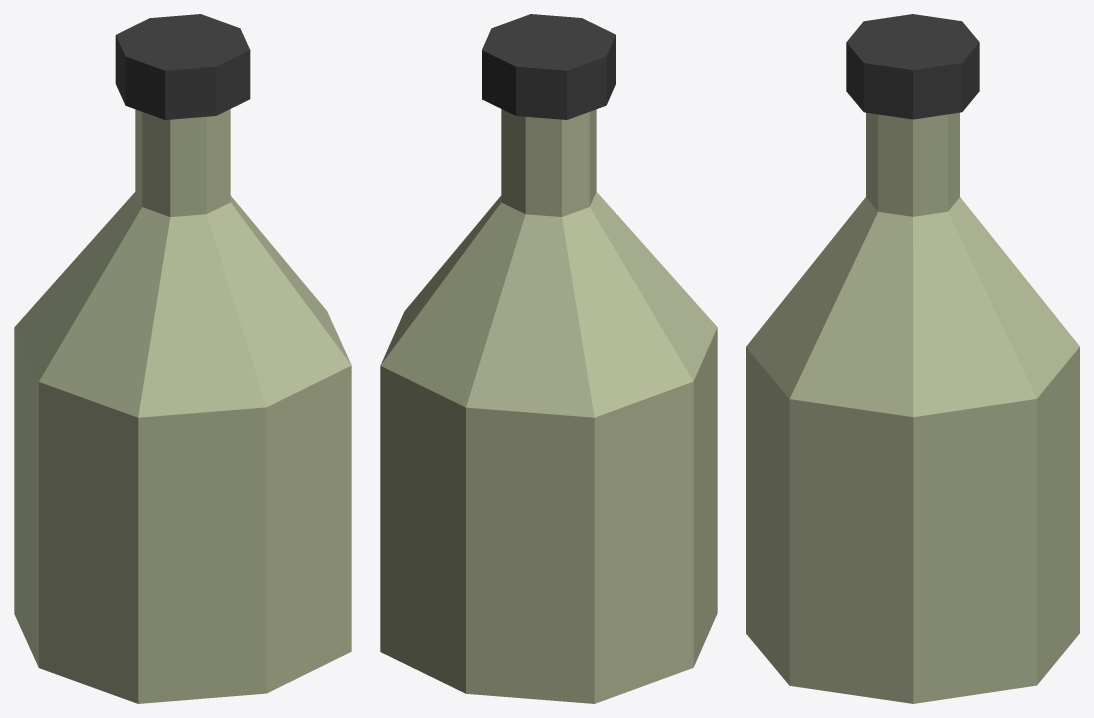
File: Bottle_2.fbx
The picture shows the model from 3 angles, left to right: view 1: azimuth 30°, elevation 25°; view 2: azimuth 150°, elevation 25°; view 3: azimuth 270°, elevation 25°; orthographic projection.
Parts seen in each view (by area): view 1: Bottle_2; view 2: Bottle_2; view 3: Bottle_2.
Boxes of the visible parts, x1,y1,x2,y2 form: Bottle_2: (14, 14, 351, 703); Bottle_2: (380, 14, 717, 703); Bottle_2: (746, 14, 1079, 703).
Bounding box in the file's own units: 17.38 × 17.38 × 33.96.
